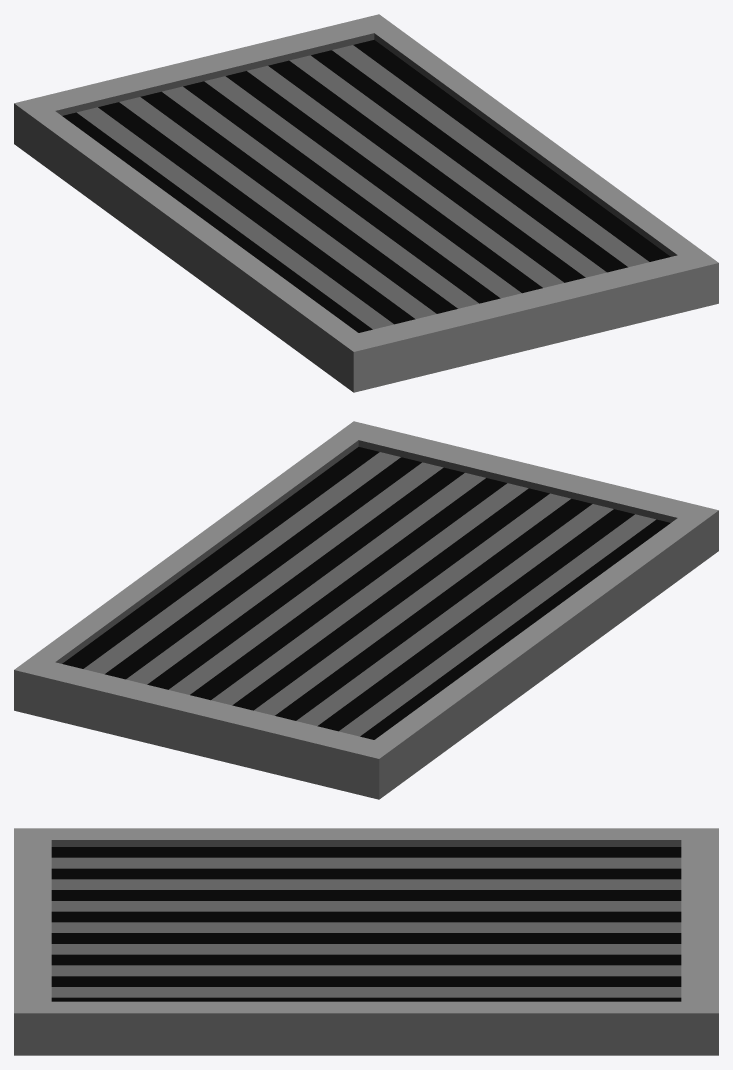
File: Prop_CattleStop.fbx
The picture shows the model from 3 angles, top to bottom: view 1: azimuth 30°, elevation 25°; view 2: azimuth 150°, elevation 25°; view 3: azimuth 270°, elevation 25°; orthographic projection. The views are drawn at different scales.
Parts seen in each view (by area): view 1: Prop_CattleStop; view 2: Prop_CattleStop; view 3: Prop_CattleStop.
Part boxes in pixels (x1,y1,x2,y2): Prop_CattleStop: [14, 14, 718, 392]; Prop_CattleStop: [14, 421, 718, 799]; Prop_CattleStop: [14, 828, 718, 1055].
Bounding box in the file's own units: 2.94 × 0.313 × 4.73.
Materials: 1 (1 with a texture image).
